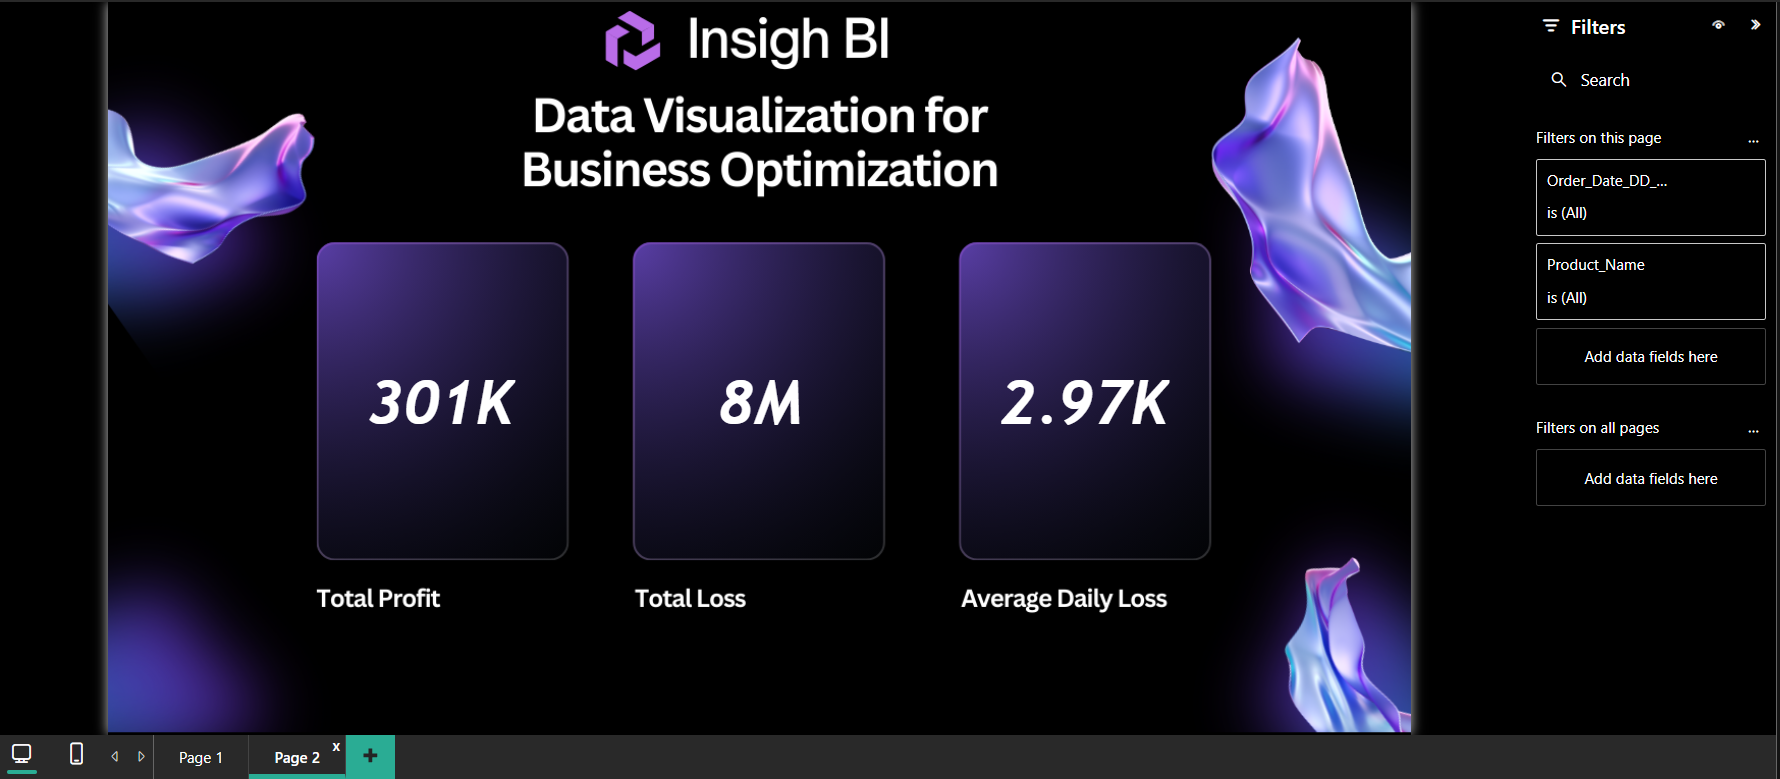

Layout of this report page (visuals, bound fields, positions):
{"tool":"powerbi","page":{"name":"Page 2","canvas":[1280,720],"ordinal":1},"visuals":[{"type":"cardVisual","fields":{"Data":["Measure Table.Total Profit"]},"box":[213.5,269.9,228.2,244.2],"z":0},{"type":"cardVisual","fields":{"Data":["Measure Table.Average Loss Per Day"]},"box":[835.6,269.9,247.9,244.2],"z":1000},{"type":"cardVisual","fields":{"Data":["Measure Table.Total Loss"]},"box":[526.4,269.9,228.2,244.2],"z":2000}]}

Visuals, with their boxes on the page's 1280x720 design canvas (x1, y1, x2, y2). These are canvas units, not pixel positions in the 1780x779 screenshot, which may show the page scaled, cropped or inside an application window:
cardVisual - Measure Table.Total Profit: l=214, t=270, r=442, b=514
cardVisual - Measure Table.Average Loss Per Day: l=836, t=270, r=1084, b=514
cardVisual - Measure Table.Total Loss: l=526, t=270, r=755, b=514
